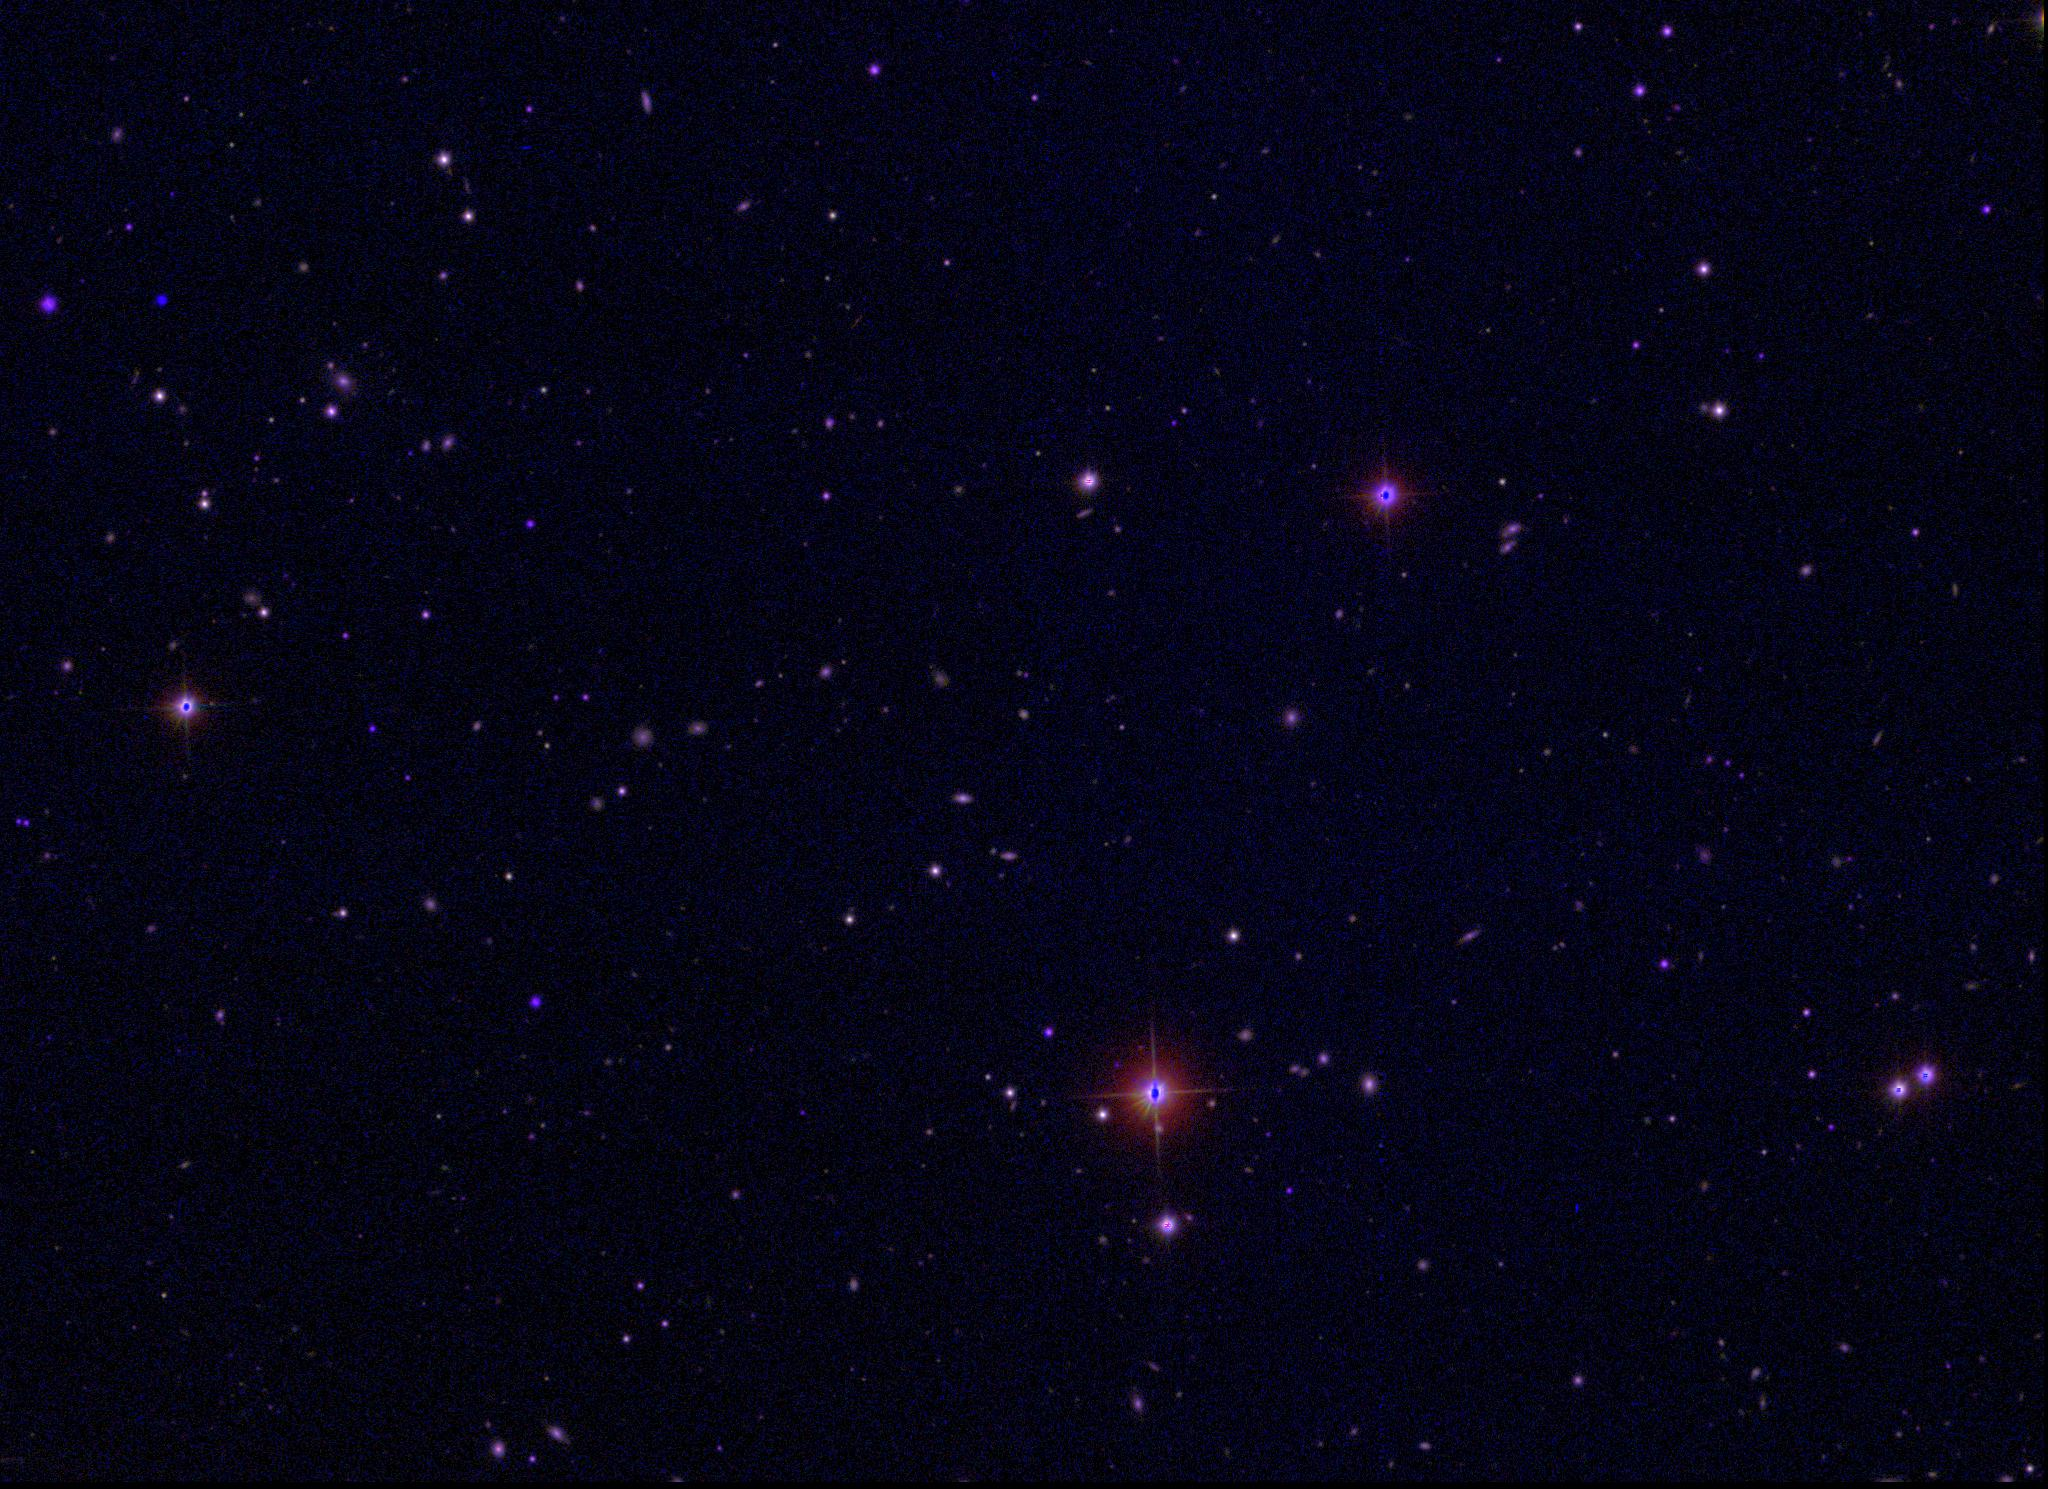L: (156, 291, 170, 305)
